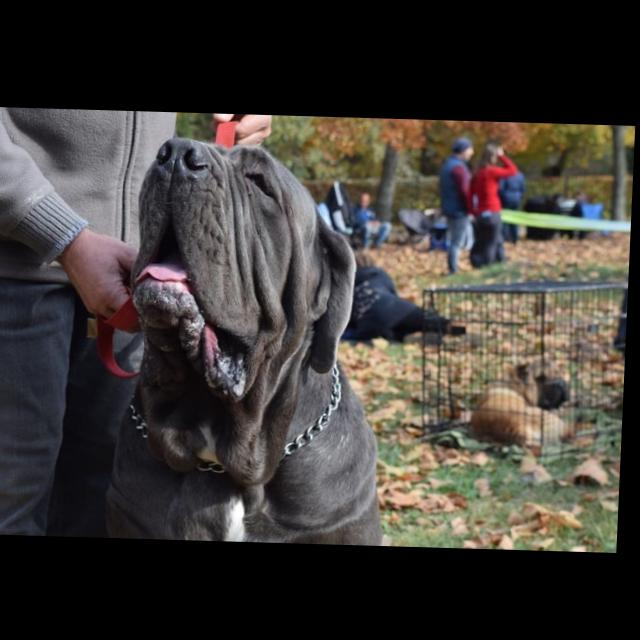mastino_napoletano: (108, 133, 402, 543)
person: (1, 108, 275, 541), (466, 142, 521, 268), (442, 134, 479, 270)
